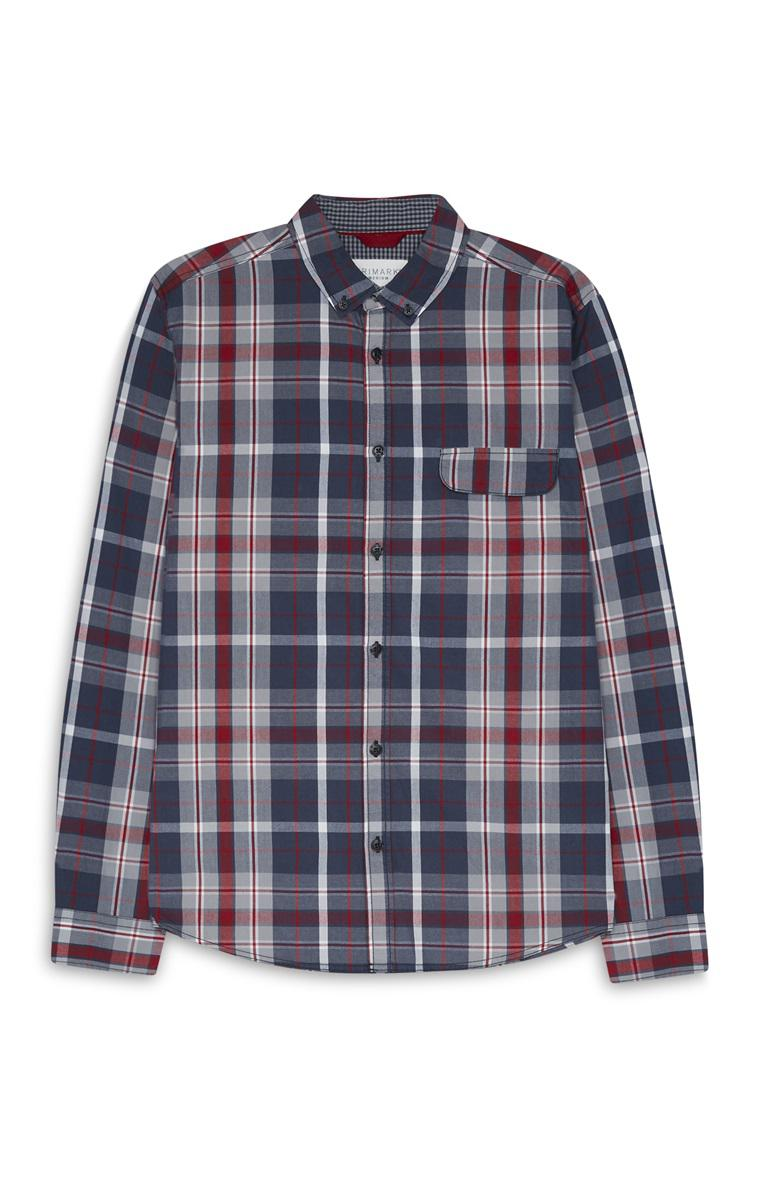teeshirt: (32, 186, 727, 993)
